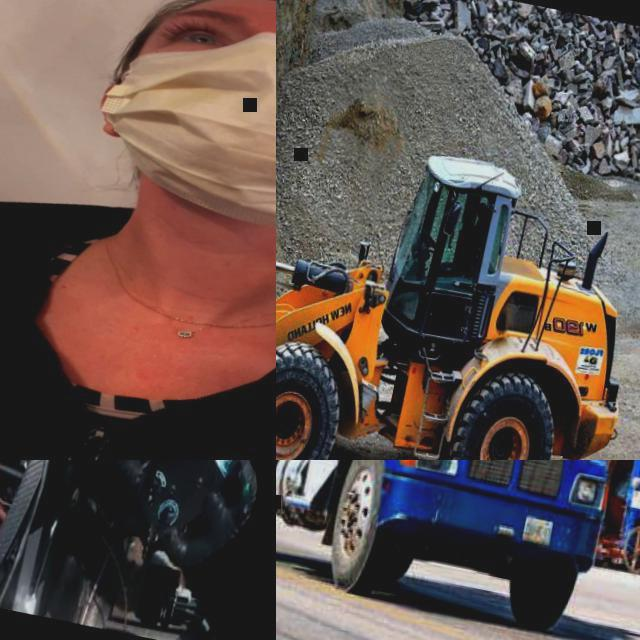machinery: (276, 90, 640, 460), (276, 460, 640, 637)
mask: (92, 8, 276, 253)
no_helmet: (162, 0, 276, 56)
no_vest: (0, 197, 276, 460)
person: (0, 0, 276, 460)
vehicle: (0, 460, 276, 640)
